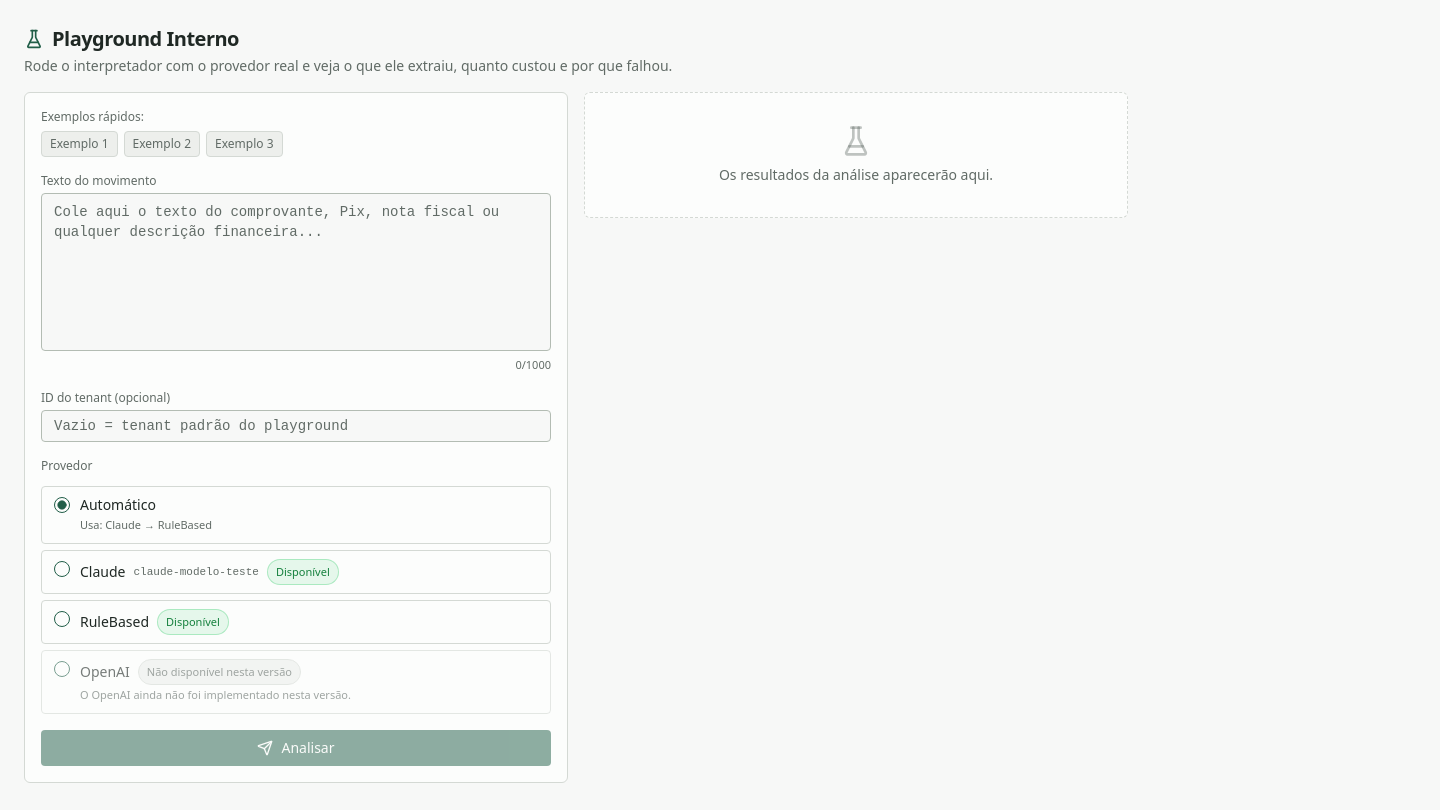
Test: AiPlaygroundPage › shows a successful Claude run: model, tokens, cost, prompt and attempts — never a raw answer
Click the radio button named "Claude" at (62, 568), box [54,560,70,576]
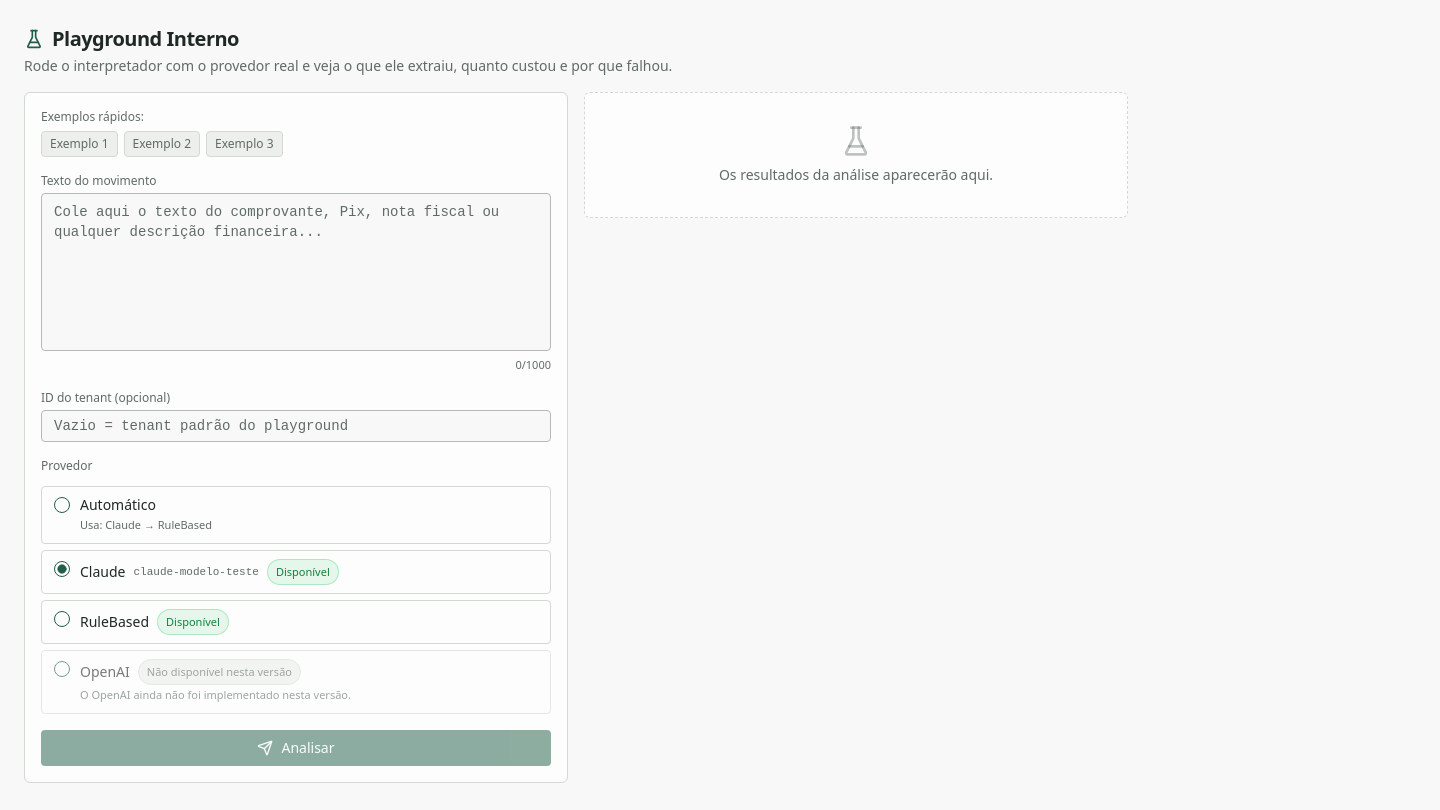
Replace the text in the text box labelled "Texto do movimento" with "Pix enviado em 07/05/2026 R$ 850,00" at (296, 272), box [41,193,551,351]
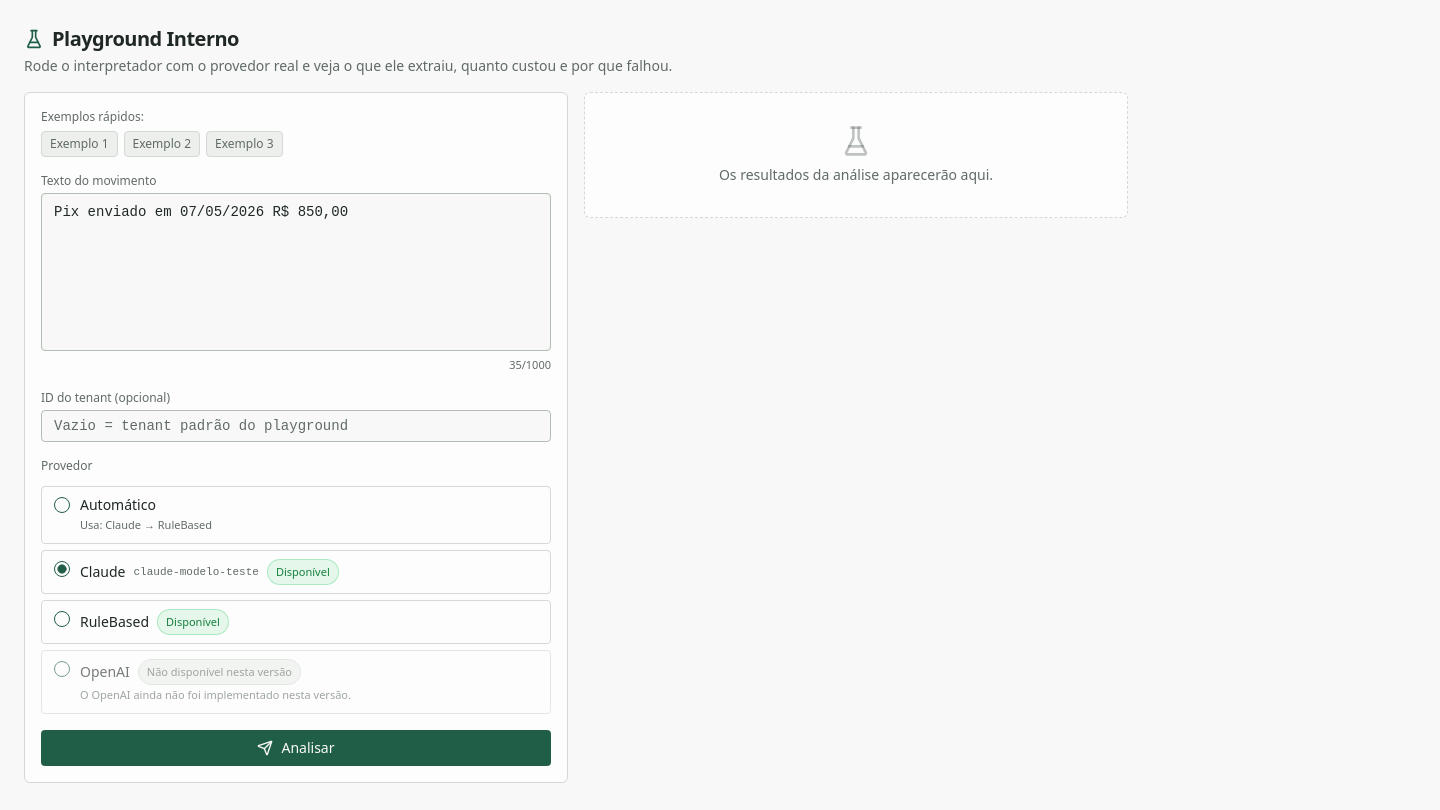
Click the button "Analisar" at (296, 748), box [41,730,551,766]
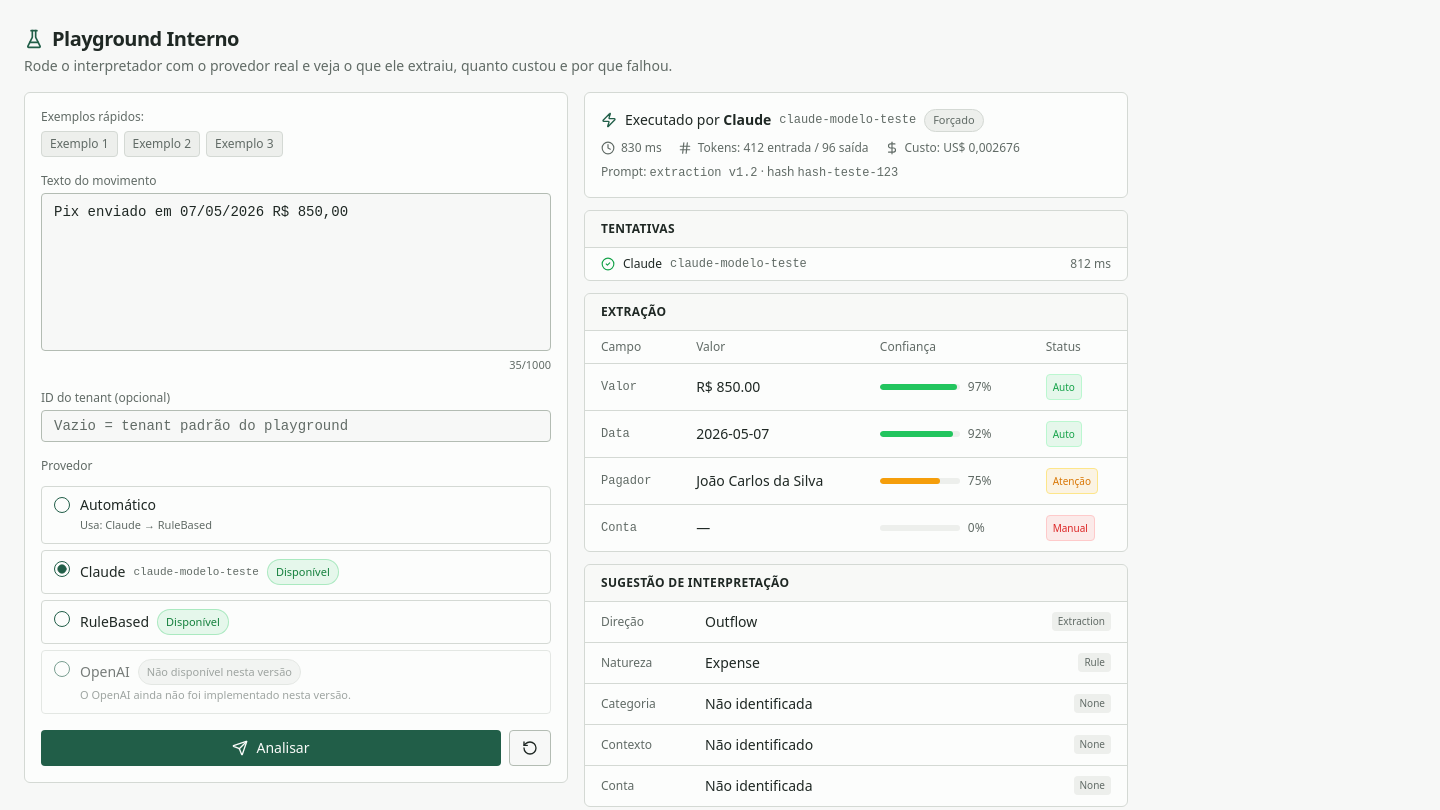
Check: the text "Executado por" reads "Executado por Claude", box [625,110,771,130]
Check: the text "claude-modelo-teste" next to "Forçado" is shown, box [779,113,916,127]
Check: the text "Forçado" is shown, box [924,109,984,132]
